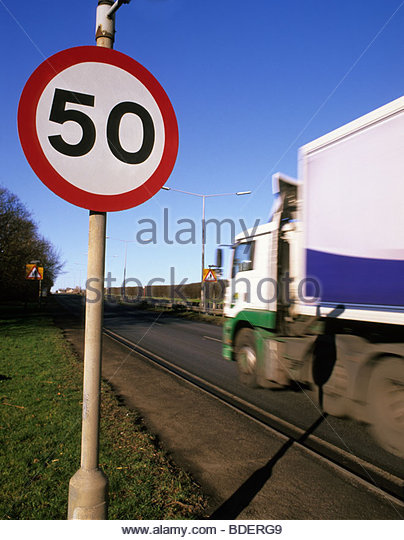Speed_limit_50km: (17, 44, 180, 211)
